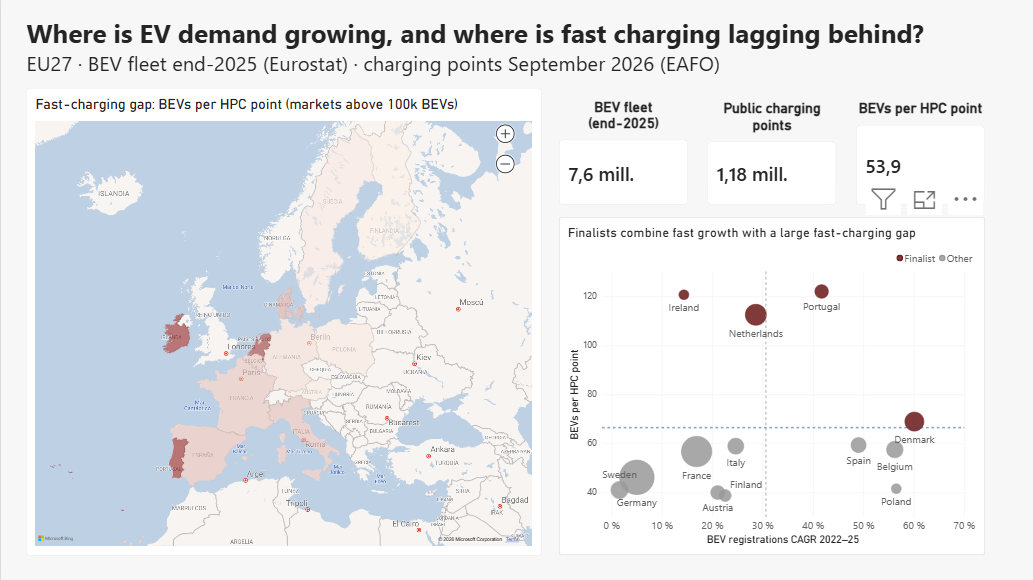

The dashboard page shown, as its layout file describes it:
{"tool":"powerbi","page":{"name":"Overview","canvas":[1920,1080],"ordinal":0},"visuals":[{"type":"textbox","box":[48.6,42.9,1794.3,122.9],"z":0},{"type":"cardVisual","title":"BEV fleet (end-2025)","fields":{"Data":["_measures.BEV Fleet 2025"]},"box":[1034.3,185.7,238.9,197.2],"z":1000},{"type":"cardVisual","title":"Public charging points","fields":{"Data":["_measures.Charging Points"]},"box":[1308.6,188.6,238.9,194.4],"z":2000},{"type":"cardVisual","title":"BEVs per HPC point","fields":{"Data":["_measures.BEVs per HPC Point"]},"box":[1582.9,188.6,238.9,194.4],"z":3000},{"type":"filledMap","title":"Fast-charging gap: BEVs per HPC point (markets above 100k BEVs)","fields":{"Category":["dim_country.country"]},"box":[48.6,165.7,954.3,865.7],"z":4000},{"type":"scatterChart","title":"Finalists combine fast growth with a large fast-charging gap","fields":{"Category":["dim_country.country"],"Series":["dim_country.group"],"Size":["_measures.BEV Fleet 2025"],"X":["_measures.BEV CAGR 22-25"],"Y":["_measures.BEVs per HPC Point"]},"box":[1034.3,405.7,788.6,625.7],"z":5000}]}

Visuals, with their boxes in screenshot pixels (x1, y1, x2, y2), scaled from the page's 1920x1080 canvas onto the 1033x580 screenshot:
textbox: bbox=(26, 23, 992, 89)
"BEV fleet (end-2025)" cardVisual: bbox=(556, 100, 685, 206)
"Public charging points" cardVisual: bbox=(704, 101, 833, 206)
"BEVs per HPC point" cardVisual: bbox=(852, 101, 980, 206)
"Fast-charging gap: BEVs per HPC point (markets above 100k BEVs)" filledMap: bbox=(26, 89, 540, 554)
"Finalists combine fast growth with a large fast-charging gap" scatterChart: bbox=(556, 218, 981, 554)
